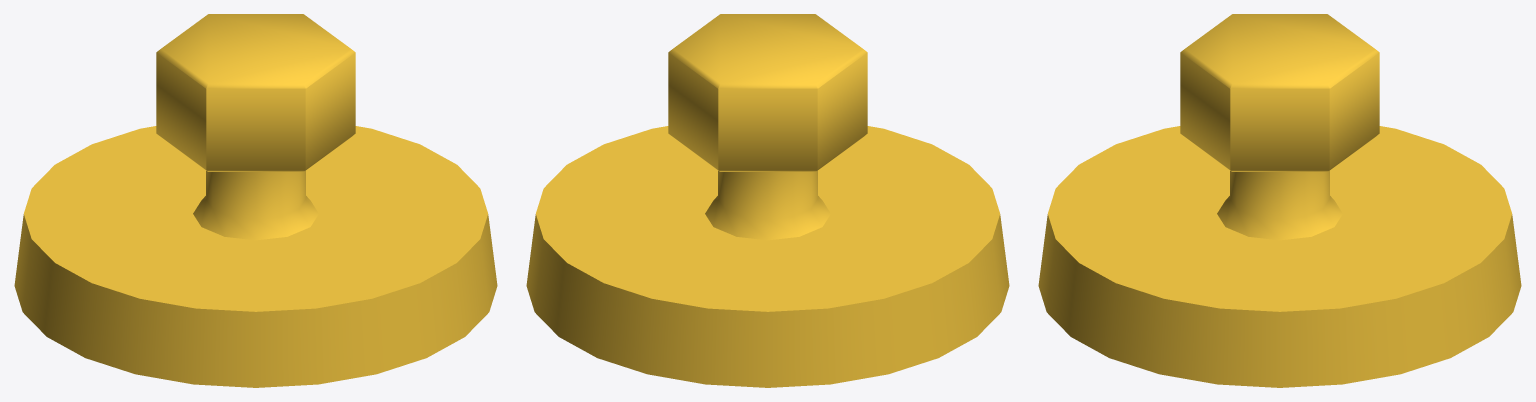
Rendered from LevelingBolt.fbx.
3 views of the same model, side by side, from view 1: azimuth 30°, elevation 25°; view 2: azimuth 150°, elevation 25°; view 3: azimuth 270°, elevation 25° (orthographic).
Parts seen in each view (by area): view 1: LevelingBolt; view 2: LevelingBolt; view 3: LevelingBolt.
Boxes of the visible parts, box(x1,y1,x2,y2) form: LevelingBolt: box(14, 14, 497, 387); LevelingBolt: box(526, 14, 1009, 387); LevelingBolt: box(1038, 14, 1521, 387).
Size of the model in its own units: 2.91 by 1.58 by 2.91.
